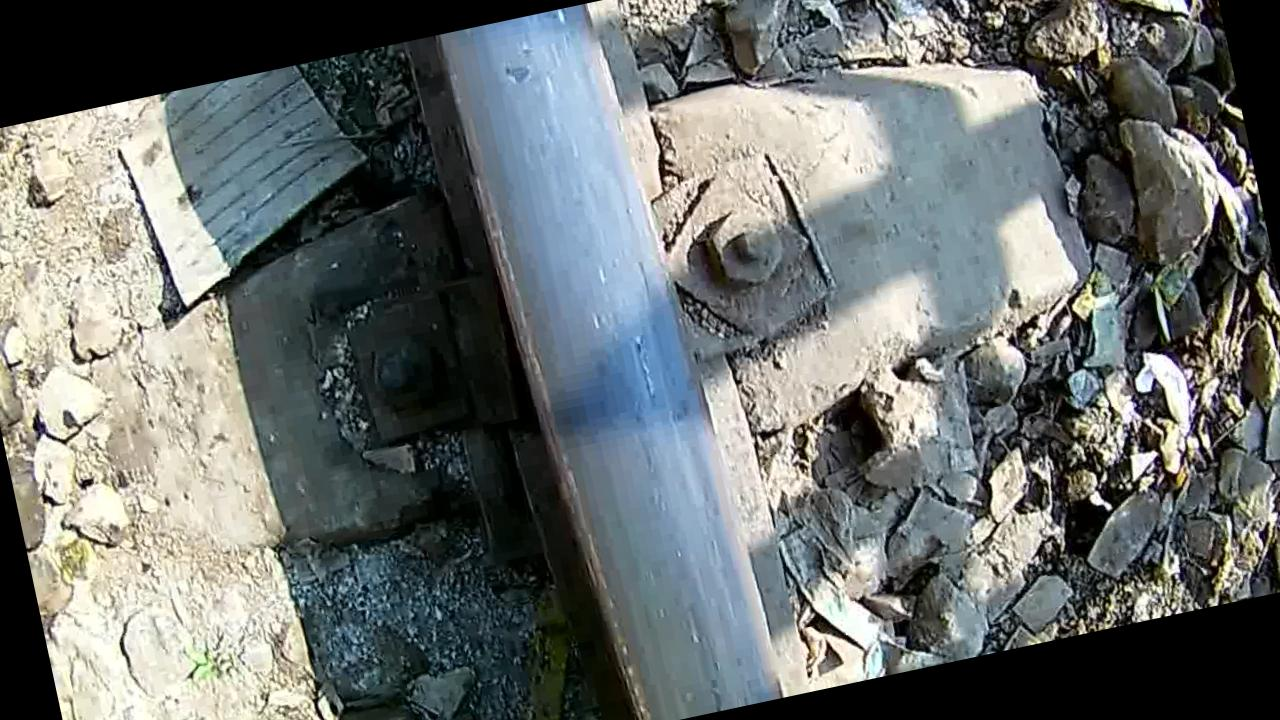crack: (462, 8, 590, 122)
